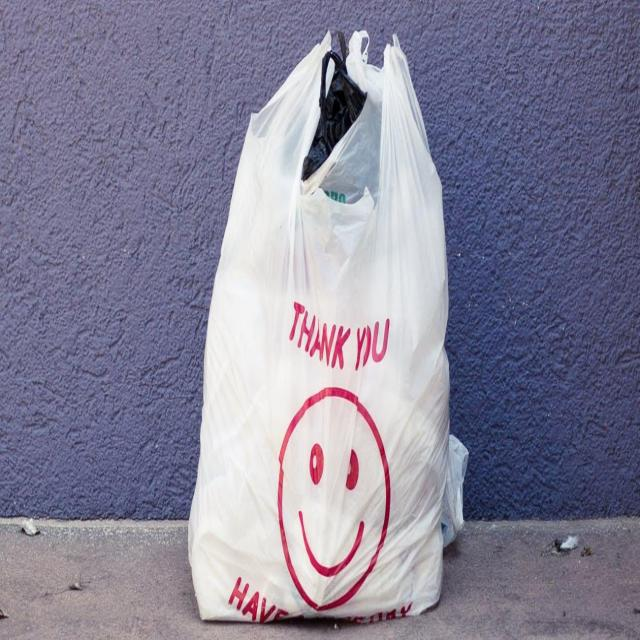plastic_bag: (156, 20, 496, 632)
